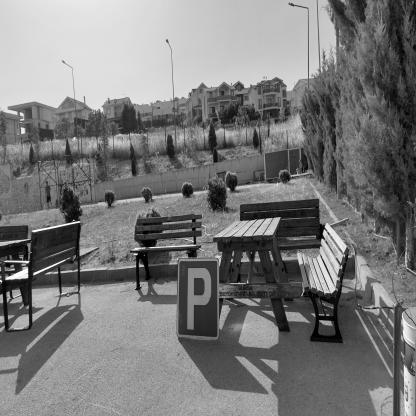Parking-Sign: (177, 259, 221, 341)
